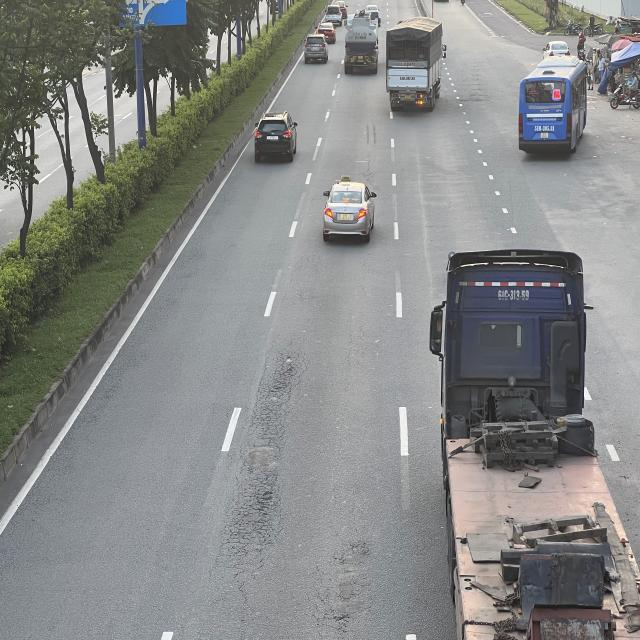car: (321, 181, 378, 246), (256, 113, 301, 163), (304, 33, 330, 63), (324, 2, 346, 26), (546, 39, 571, 59)
coach: (520, 57, 591, 153)
container: (432, 248, 640, 640), (343, 7, 381, 75)
truck: (386, 21, 447, 112)
